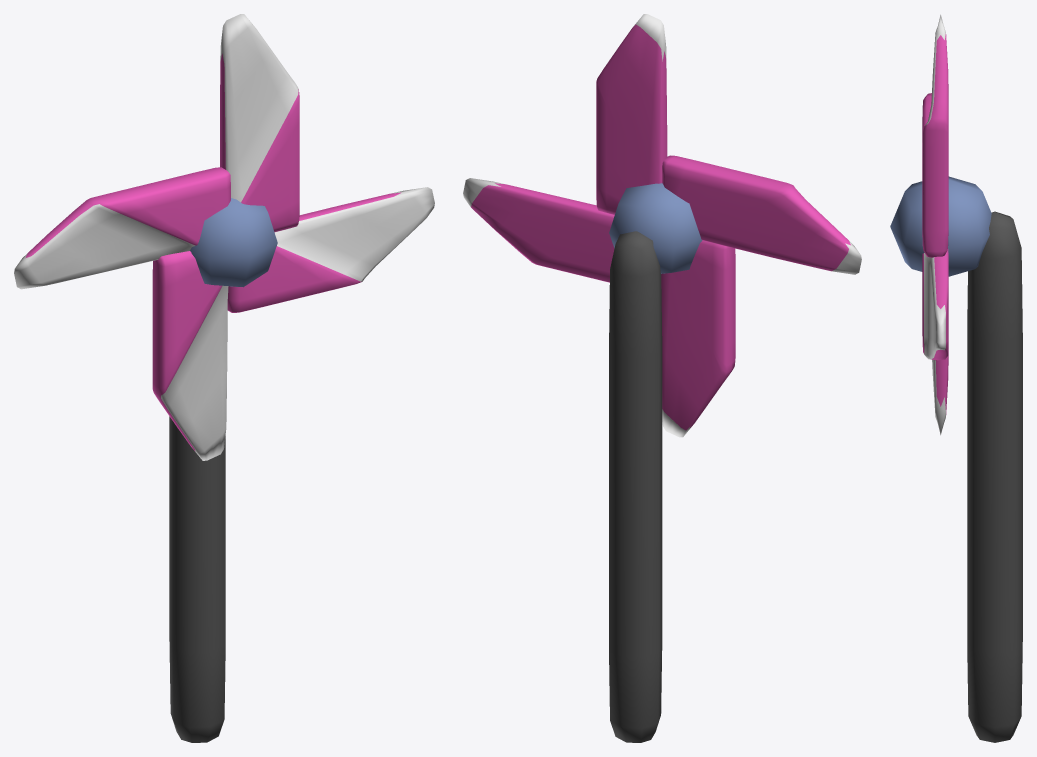
File: pin_wheel.glb
3 renders of one model, left to right at view 1: azimuth 30°, elevation 25°; view 2: azimuth 150°, elevation 25°; view 3: azimuth 270°, elevation 25°, orthographic. The views are drawn at different scales.
Parts seen in each view (by area): view 1: Handle, Wing3, Wing2, Wing1, Wing4, Pin; view 2: Handle, Wing3, Wing1, Wing2, Wing4, Pin; view 3: Handle, Pin, Wing2, Wing4, Wing1, Wing3.
Part boxes in pixels (x1,y1,x2,y2): Handle: (169, 416, 225, 742); Wing3: (14, 167, 230, 289); Wing2: (220, 14, 299, 232); Wing1: (152, 251, 228, 460); Wing4: (227, 187, 434, 312); Pin: (190, 198, 277, 287); Handle: (609, 231, 662, 742); Wing3: (662, 155, 861, 274); Wing1: (661, 240, 735, 437); Wing2: (596, 14, 667, 214); Wing4: (463, 178, 614, 282); Pin: (609, 183, 702, 273); Handle: (967, 211, 1022, 742); Pin: (890, 176, 991, 276); Wing2: (922, 14, 948, 257); Wing4: (922, 249, 948, 360); Wing1: (932, 349, 948, 435); Wing3: (922, 93, 931, 142).
Size of the model in its own units: 0.4936 by 0.8313 by 0.1373.
